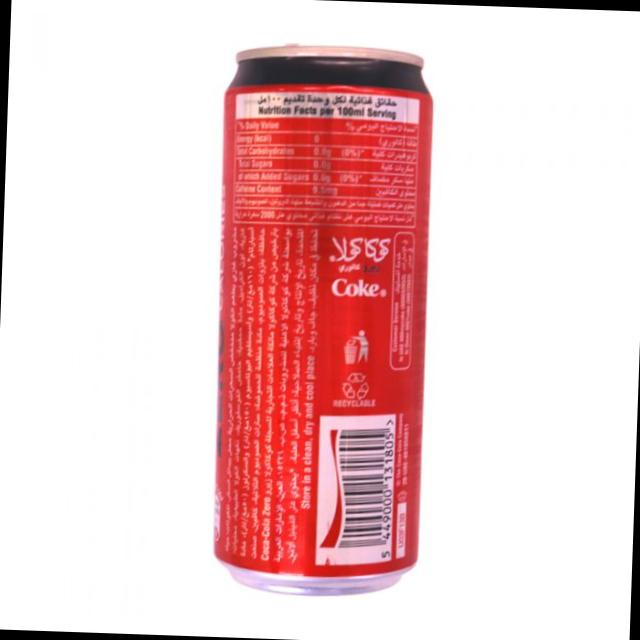cocacola: (194, 31, 443, 608)
